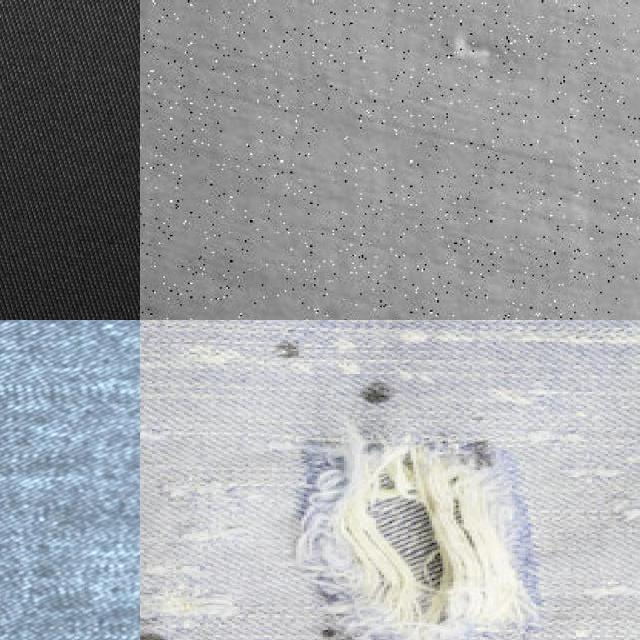Thread_other: (104, 378, 140, 640)
seam: (140, 320, 635, 640), (386, 0, 567, 194)
